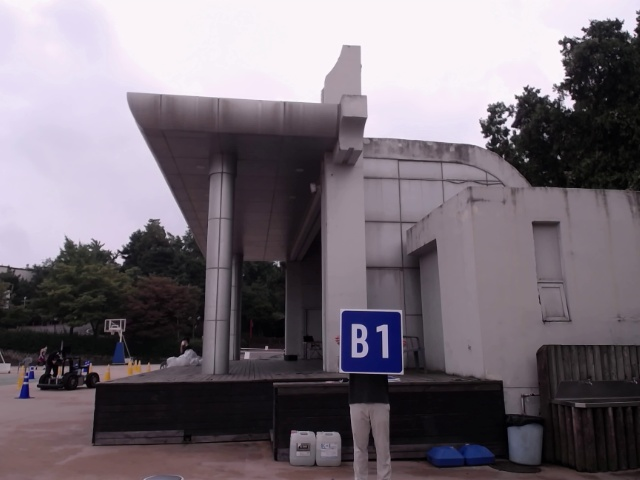delivery_b1: (340, 309, 403, 375)
